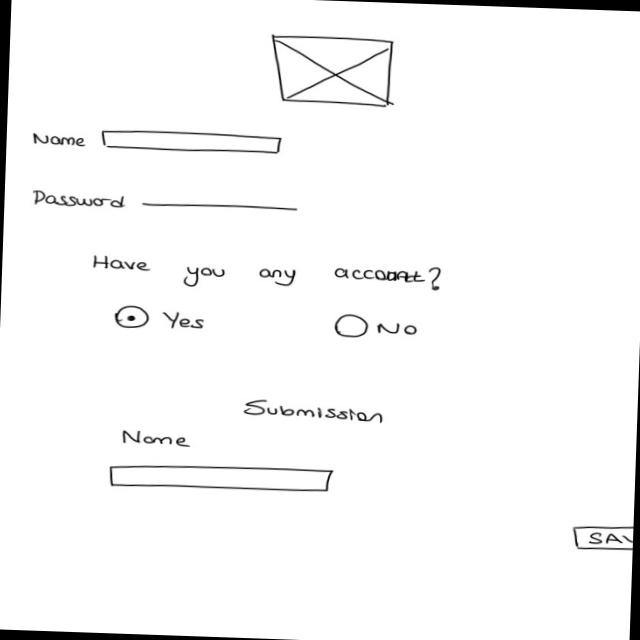button: (569, 522, 634, 554)
image: (269, 34, 396, 110)
input: (107, 461, 337, 497), (99, 128, 288, 156)
label: (90, 252, 445, 299), (240, 398, 388, 428), (30, 188, 134, 212), (120, 429, 195, 450), (30, 132, 91, 150)
radio: (115, 305, 211, 335), (334, 313, 425, 342)
